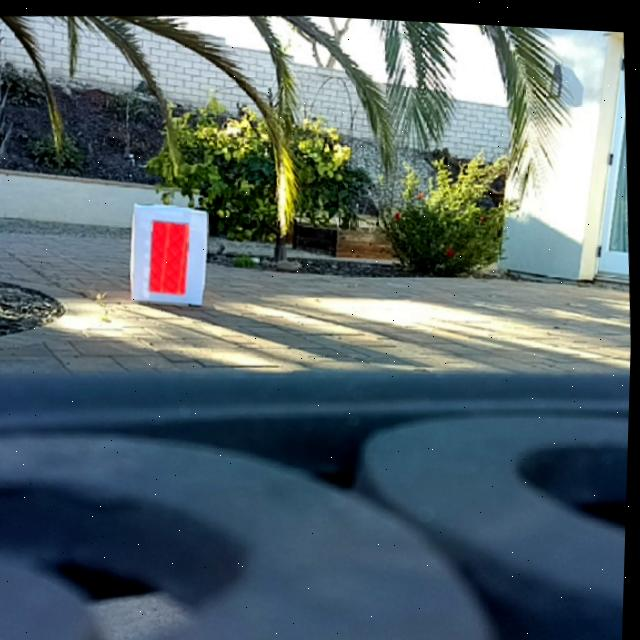led: (149, 217, 191, 295)
